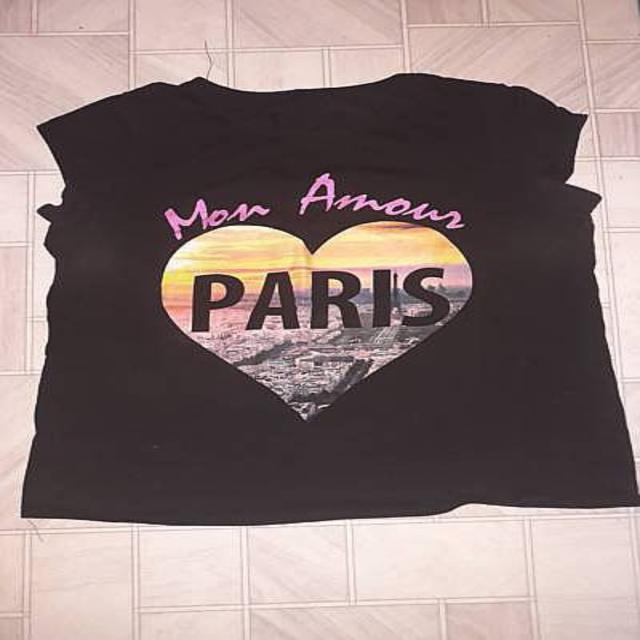T_SHIRT: (7, 65, 640, 542)
